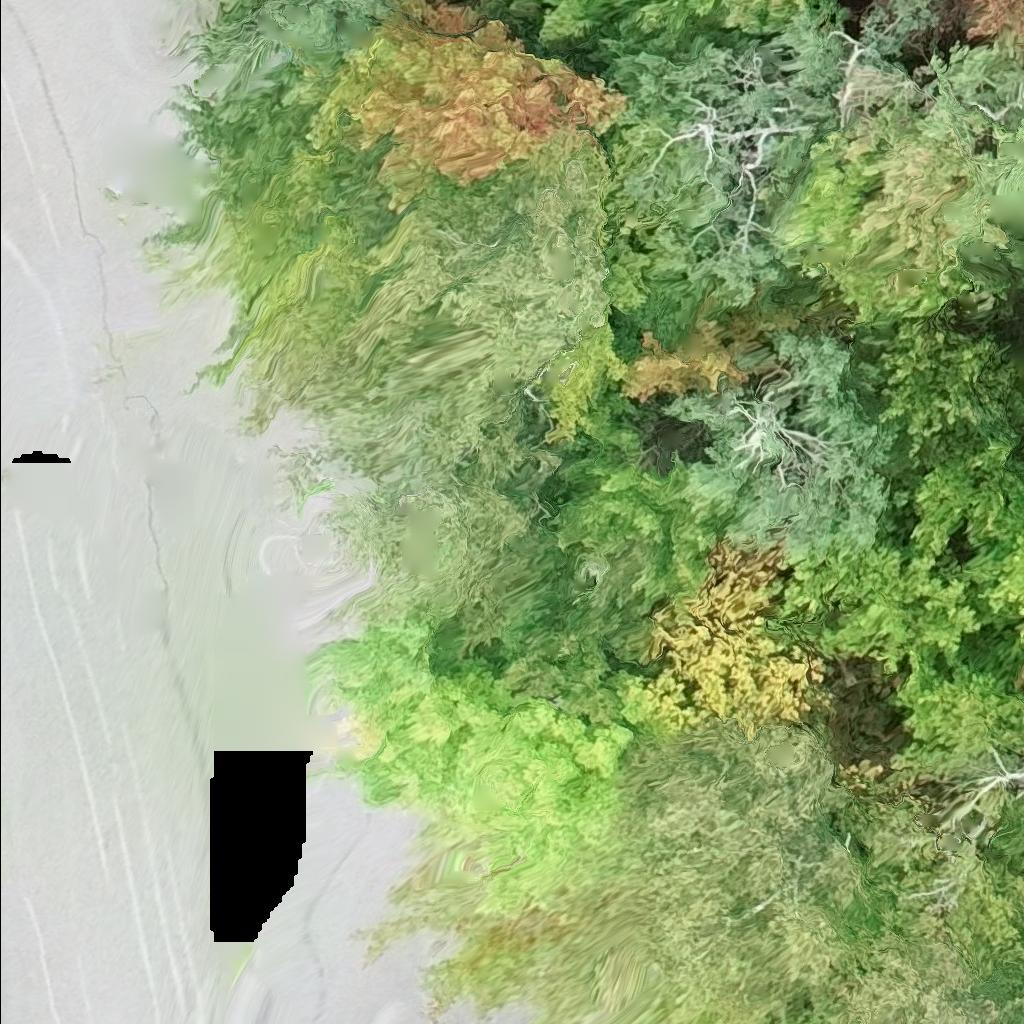crown: (723, 0, 811, 35), (957, 0, 1023, 43)
